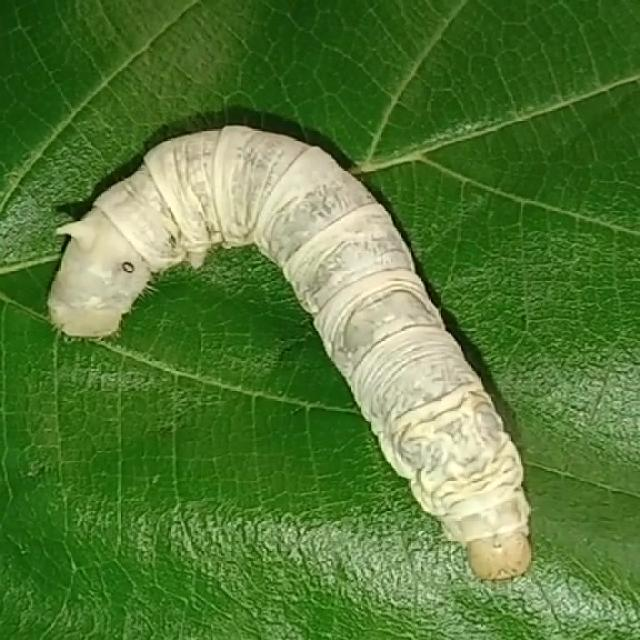Grasserie: (36, 100, 594, 607)
